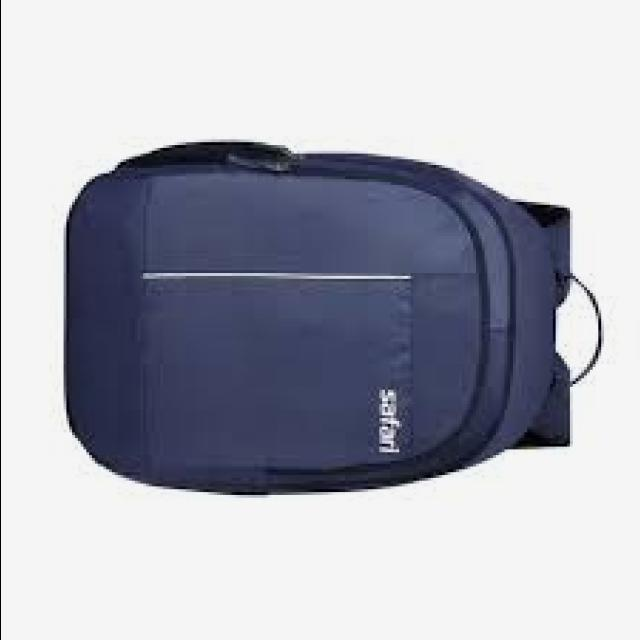backpack: (67, 140, 607, 496)
